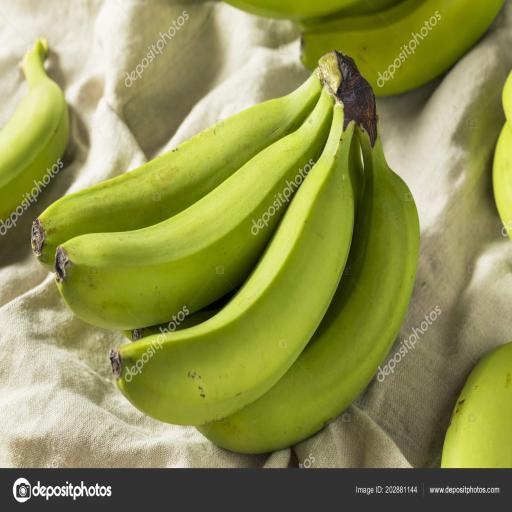banana-unripe: (19, 49, 440, 454)
